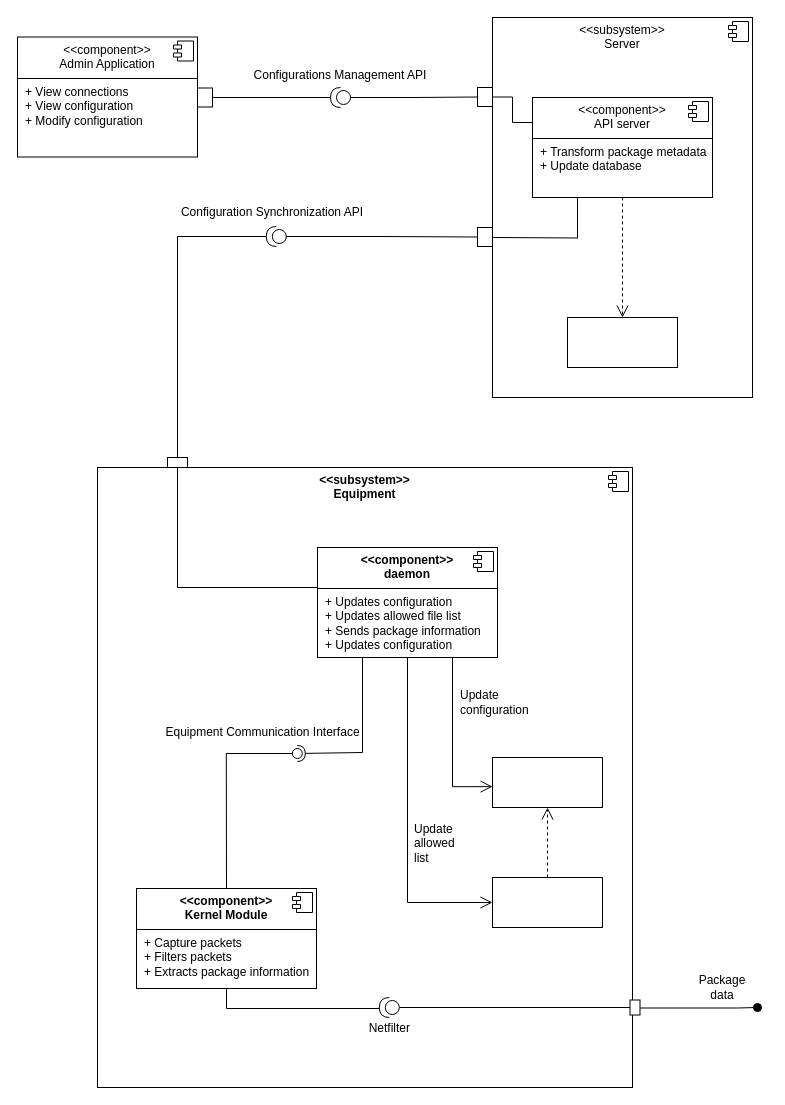
The diagram is 785 pixels wide and 1105 high, and some of its shapes have lost their labels. The centre of each missing label's shape, as x and y in pixels:
<<artifact>> allowed connection file: [547,902]
<<artifact>> mymodule.conf: [547,782]
<<artifact>> network_logs.db: [622,342]
